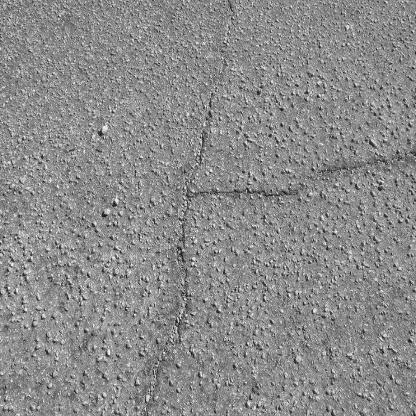Cracks: (136, 0, 309, 416), (317, 143, 416, 178)
